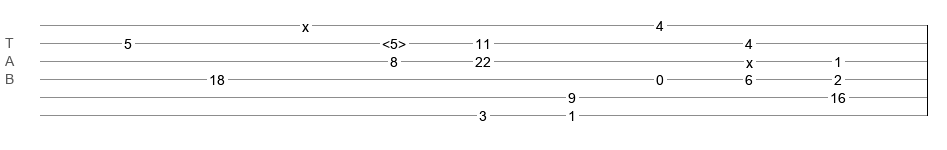0: (656, 72, 664, 82)
1: (568, 108, 576, 118), (834, 54, 842, 64)
11: (475, 36, 491, 46)
16: (830, 90, 846, 100)
18: (209, 72, 225, 82)
2: (834, 72, 842, 82)
22: (475, 54, 491, 64)
3: (479, 108, 487, 118)
4: (656, 18, 664, 28), (745, 36, 753, 46)
5: (124, 36, 132, 46)
6: (745, 72, 753, 82)
8: (390, 54, 398, 64)
9: (568, 90, 576, 100)
harmonic: (382, 36, 406, 46)
x: (302, 19, 309, 27), (746, 55, 753, 63)
